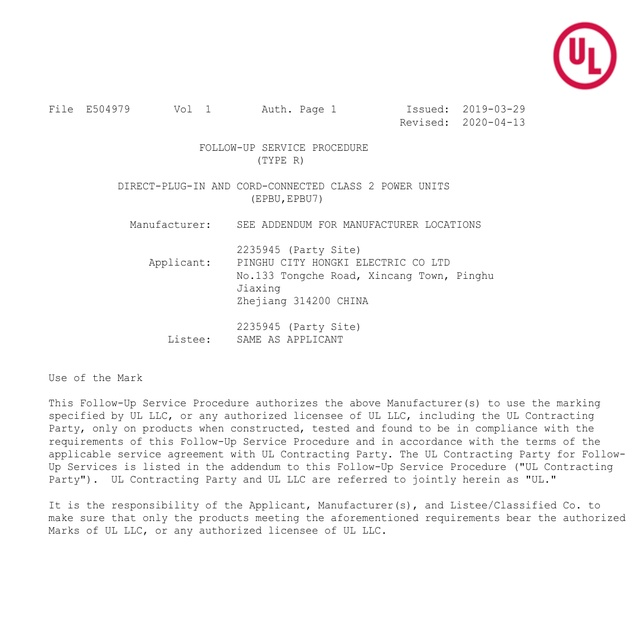ul: (553, 20, 618, 92)
